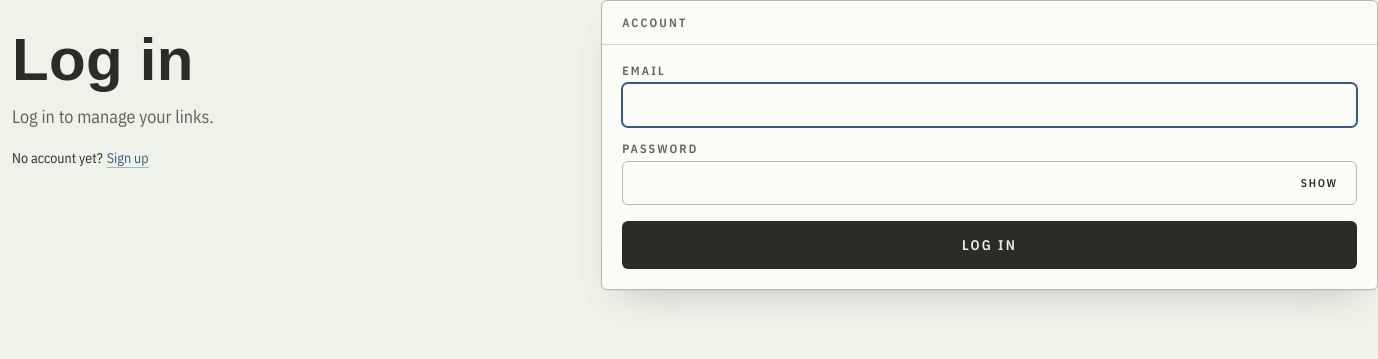
Test: AuthForm login › shows the error on wrong credentials and enables the button again
Type "a@b.co" into the field labelled "Email".
click(990, 105); type("a@b.co")  # box [622,83,1357,127]
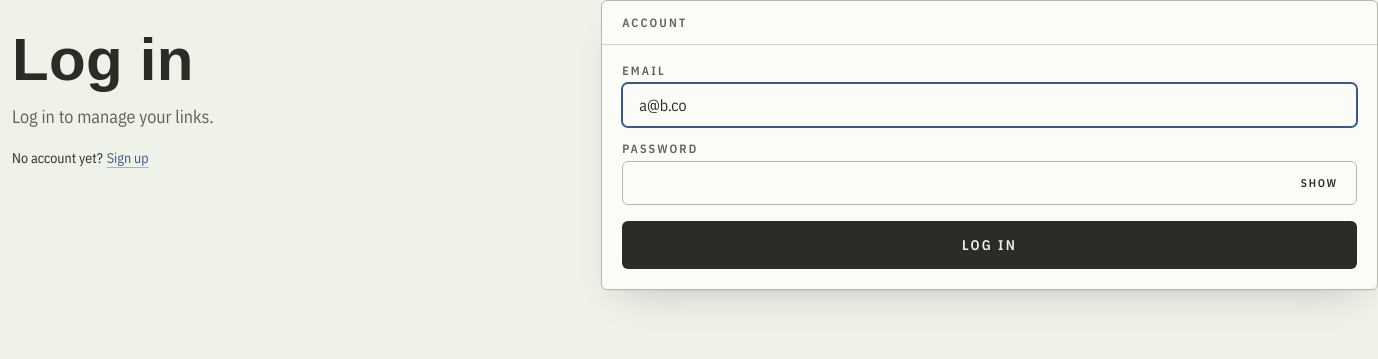
Type "pw" into the password field labelled "Password".
click(990, 183); type("pw")  # box [622,161,1357,205]
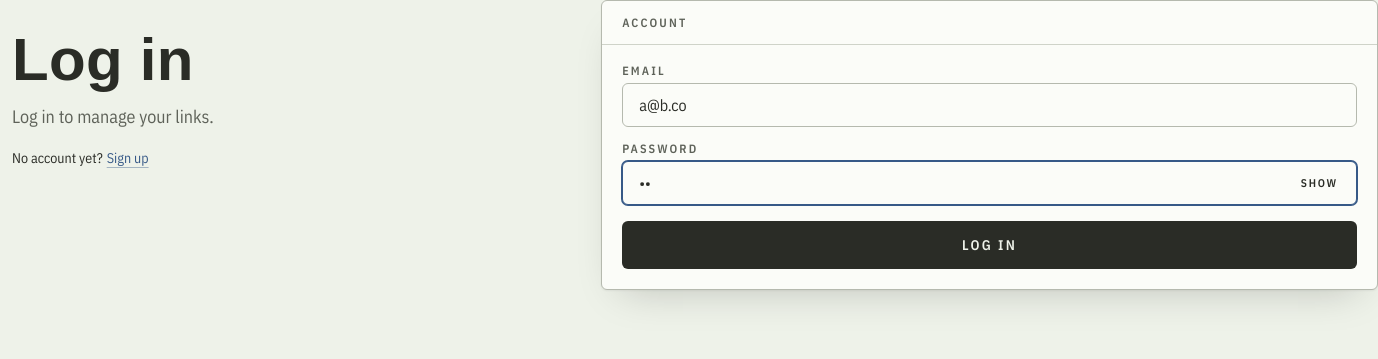
Click the button "Log in".
click(990, 245)  # box [622,221,1357,269]
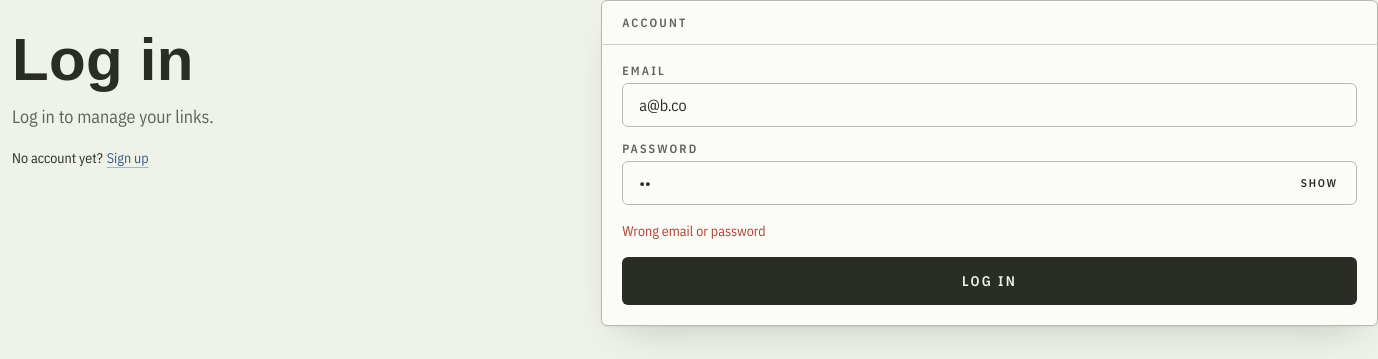
Expected: the button "Log in" is enabled, [622,257,1357,305]
Expected: the message reads "Wrong email or password", [622,222,766,240]
